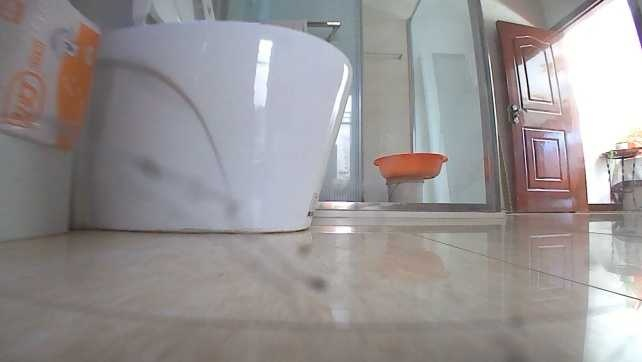door_anno: (495, 17, 589, 212)
toilet: (60, 1, 354, 235)
